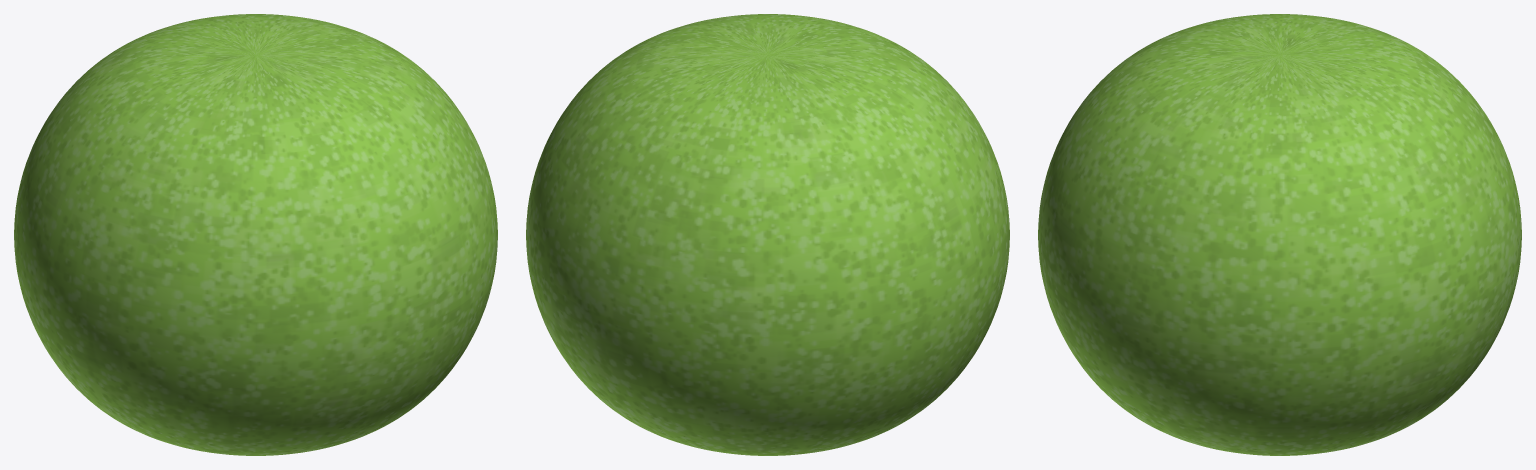
Rendered from lime.glb.
3 renders of one model, left to right at view 1: azimuth 30°, elevation 25°; view 2: azimuth 150°, elevation 25°; view 3: azimuth 270°, elevation 25°, orthographic.
Bounding box in the file's own units: 0.17 × 0.1394 × 0.17.
Materials: 1 (1 with a texture image).
